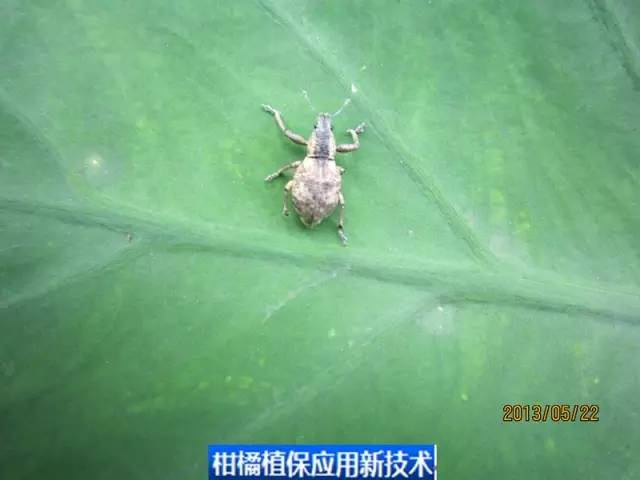Curculionidae: (258, 88, 367, 248)
